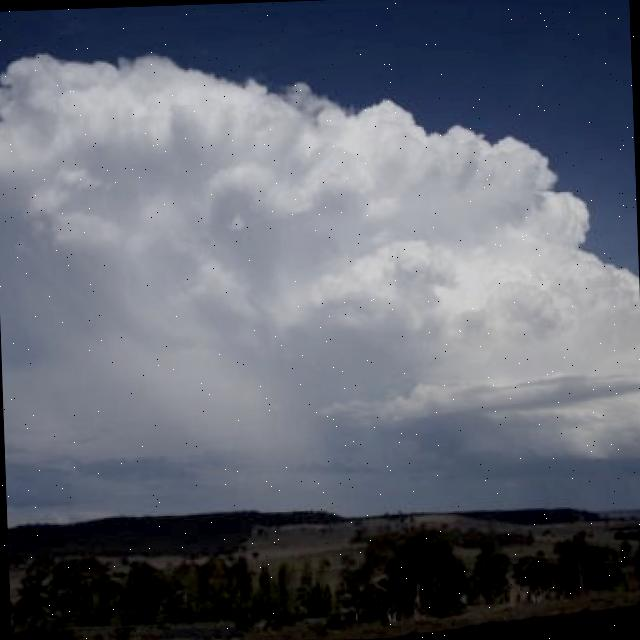Cb: (1, 28, 640, 470)
